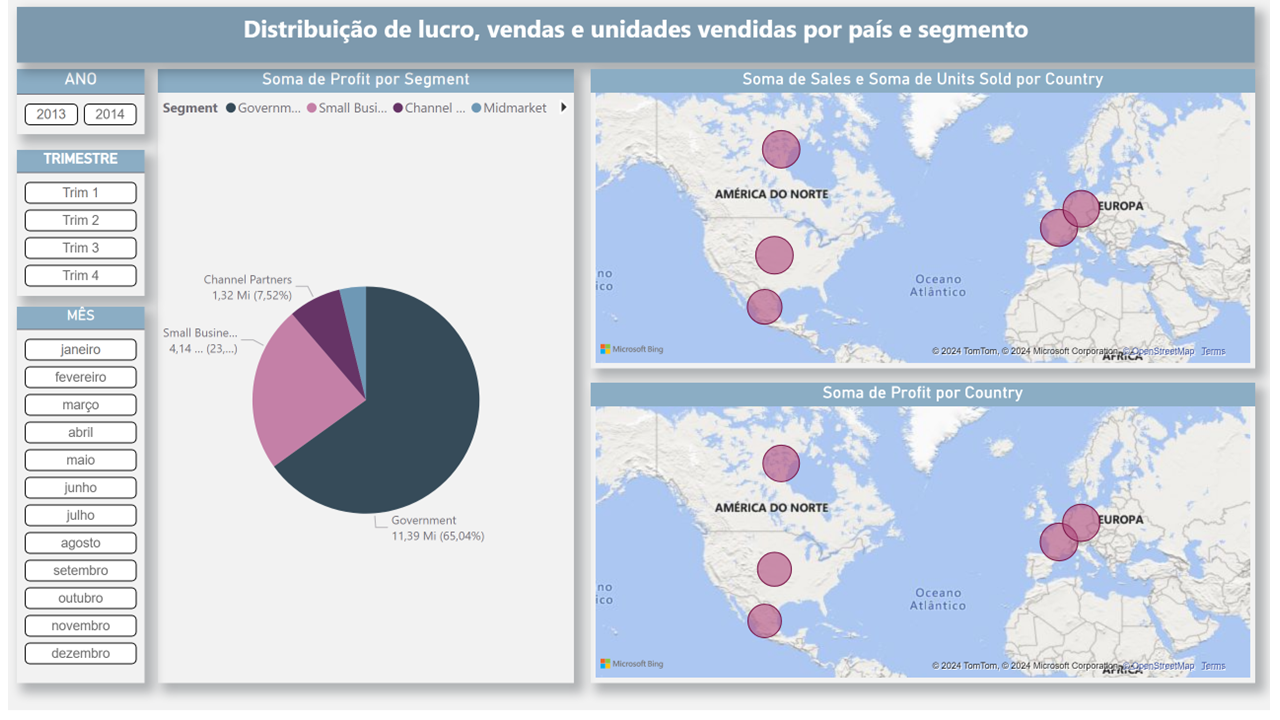

The dashboard page shown, as its layout file describes it:
{"tool":"powerbi","page":{"name":"Mapas","canvas":[1280,720],"ordinal":2},"visuals":[{"type":"pieChart","fields":{"Category":["financials.Country"],"Y":["Sum(financials.Profit)"]},"box":[151.7,70,422.1,622.5],"z":0},{"type":"ChicletSlicer1448559807354","title":"TRIMESTRE","fields":{"Category":["financials.Date.Variation.Hierarquia de datas.Trimestre"]},"box":[8.8,151.7,129.4,147.8],"z":2000},{"type":"ChicletSlicer1448559807354","title":"MÊS","fields":{"Category":["financials.Date.Variation.Hierarquia de datas.Mês"]},"box":[8.8,311.2,129.4,381.3],"z":3000},{"type":"ChicletSlicer1448559807354","title":"ANO","fields":{"Category":["financials.Date.Variation.Hierarquia de datas.Ano"]},"box":[8.8,70,129.4,66.1],"z":4000},{"type":"textbox","box":[8.8,6.8,1255.7,56.4],"z":5000},{"type":"map","fields":{"Category":["financials.Country"],"Size":["Sum(financials. Sales)"]},"box":[591.4,70,674,303.5],"z":5001},{"type":"map","fields":{"Category":["financials.Country"],"Size":["Sum(financials.Profit)"]},"box":[591.4,388.1,674,304.4],"z":5002}]}

Visuals, with their boxes in screenshot pixels (x1, y1, x2, y2), scaled from the page's 1280x720 canvas onto the 1280x720 screenshot:
pieChart - financials.Country x Sum(financials.Profit): (left=152, top=70, right=574, bottom=692)
"TRIMESTRE" ChicletSlicer1448559807354: (left=9, top=152, right=138, bottom=300)
"MÊS" ChicletSlicer1448559807354: (left=9, top=311, right=138, bottom=692)
"ANO" ChicletSlicer1448559807354: (left=9, top=70, right=138, bottom=136)
textbox: (left=9, top=7, right=1264, bottom=63)
map - financials.Country x Sum(financials. Sales): (left=591, top=70, right=1265, bottom=374)
map - financials.Country x Sum(financials.Profit): (left=591, top=388, right=1265, bottom=692)
